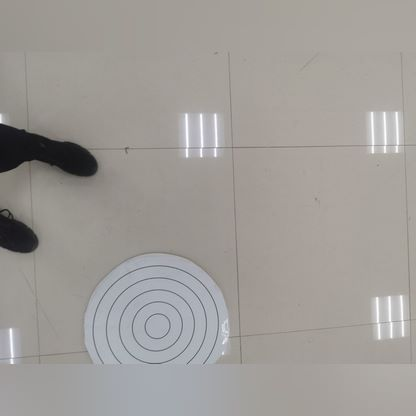circle: (80, 251, 230, 376)
